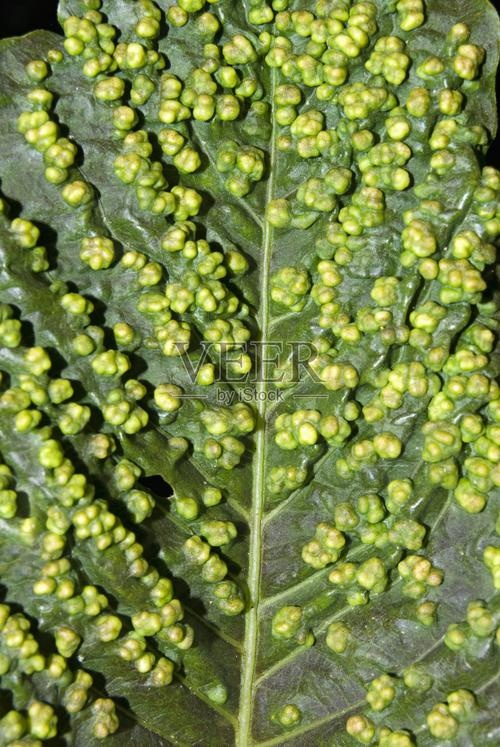Gall_Mite: (245, 15, 496, 747), (16, 3, 235, 742)
